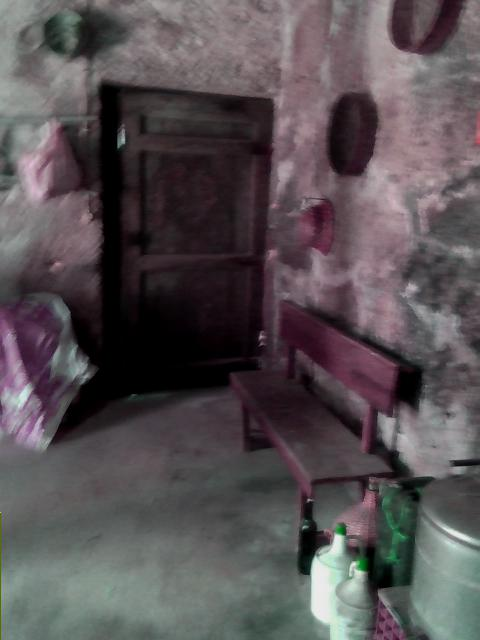closed_door: (92, 79, 275, 388)
